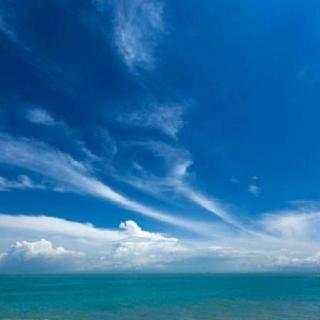Cirrus: (0, 0, 320, 268)
